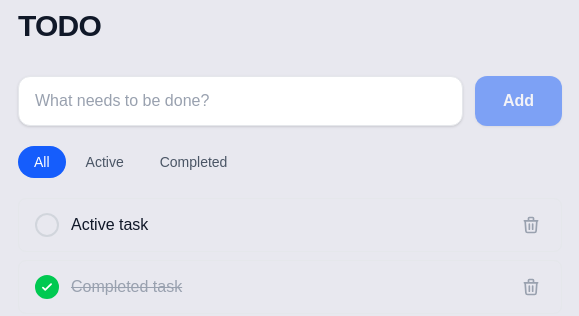
Test: Home page › shows all todos when All filter is clicked after filtering
The width and height of the screenshot is (579, 316).
Step 1. Click the button "Active" → (105, 162), box [70,146,140,178]
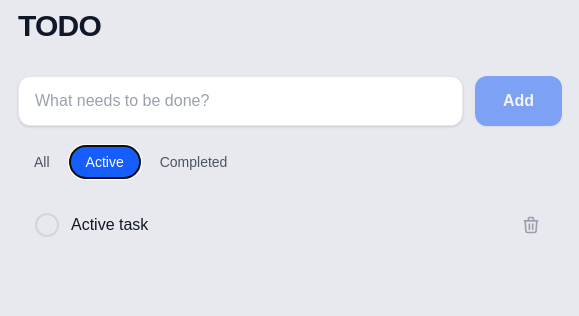
Step 2. Click the button "All" → (42, 162), box [18,146,66,178]
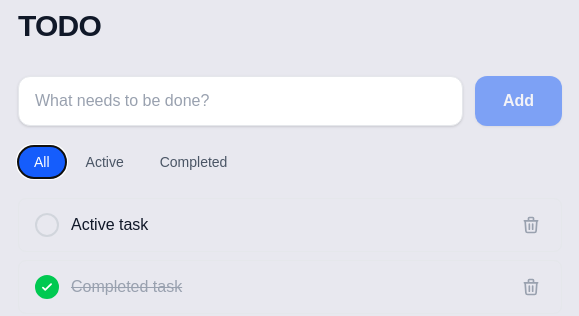
Expected: the text "Active task" is shown, [71,216,148,233]
Expected: the text "Completed task" is shown, [71,278,182,295]
